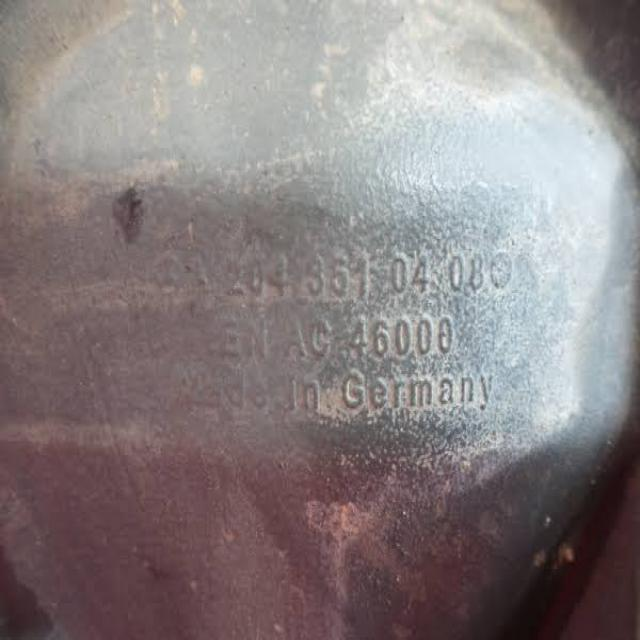ocr: (200, 242, 518, 426)
